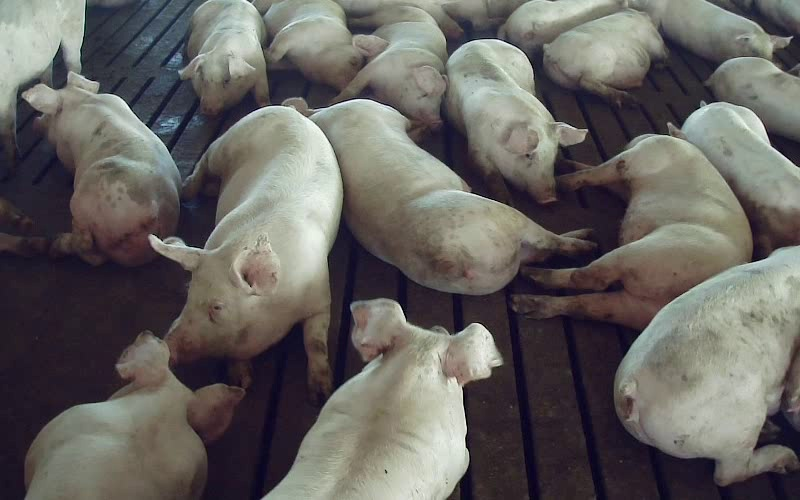pig: (283, 98, 595, 293), (149, 106, 341, 402), (265, 299, 501, 499), (513, 136, 751, 328), (25, 331, 244, 499), (23, 72, 179, 265), (444, 39, 586, 204), (668, 102, 799, 257), (333, 5, 447, 127), (543, 9, 667, 106), (253, 0, 386, 90), (179, 0, 269, 115), (629, 0, 790, 62), (705, 57, 799, 141), (498, 0, 627, 56)
